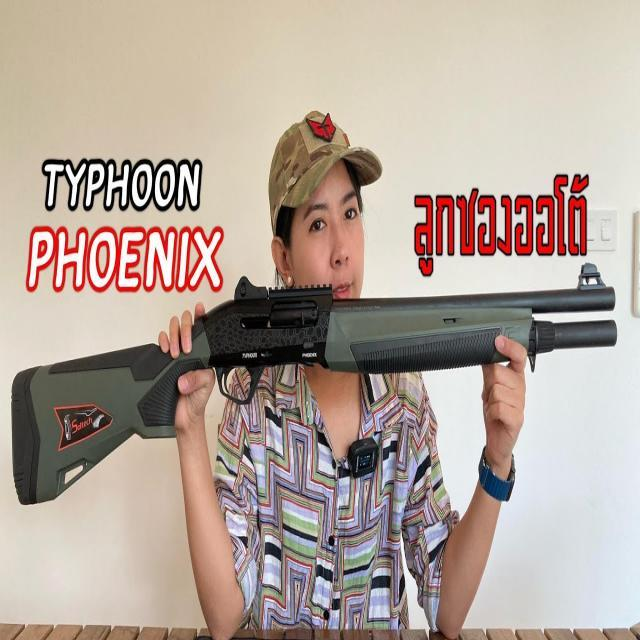shotgun: (22, 264, 626, 493)
